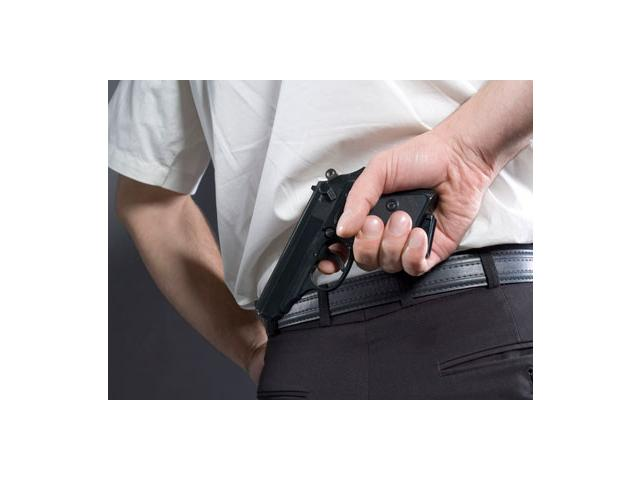pistol: (251, 162, 446, 323)
